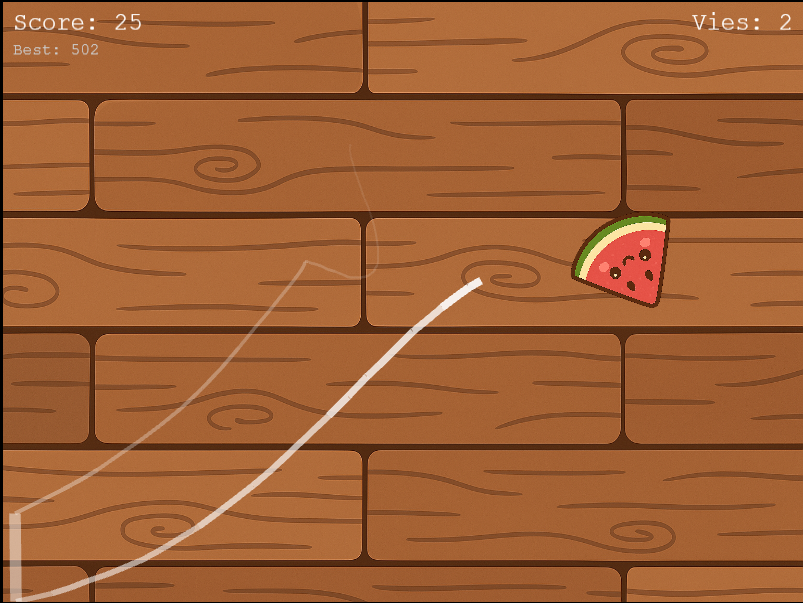fruit: (566, 206, 678, 318)
